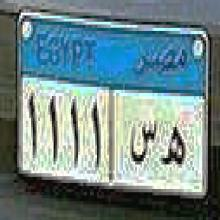1: (90, 98, 102, 172), (70, 97, 80, 167), (28, 91, 38, 160), (48, 92, 56, 166)
haa: (161, 125, 188, 170)
seen: (126, 119, 158, 169)
